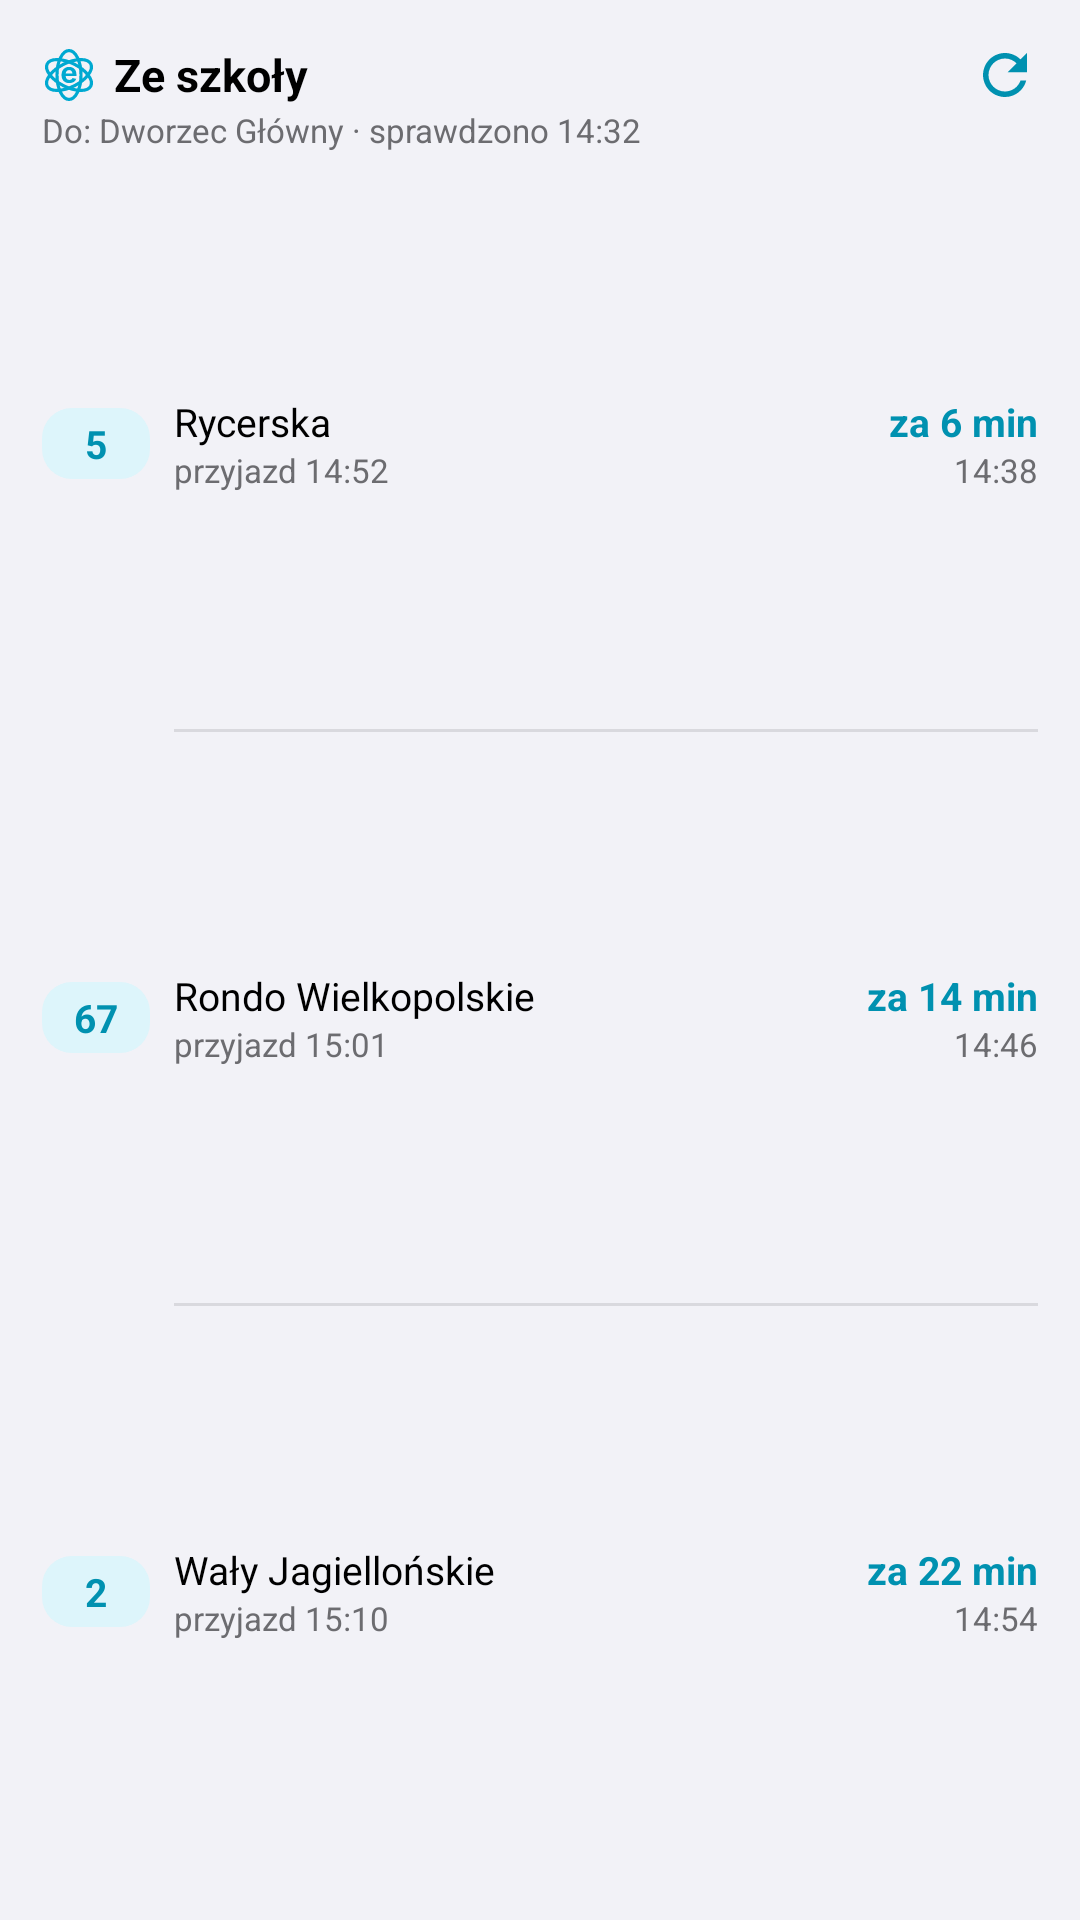

Named icons in this screenshot (1080 x 1920) and their bounding boxes, (x1, y1, x2, y2):
widget refresh: (983, 53, 1027, 97)
